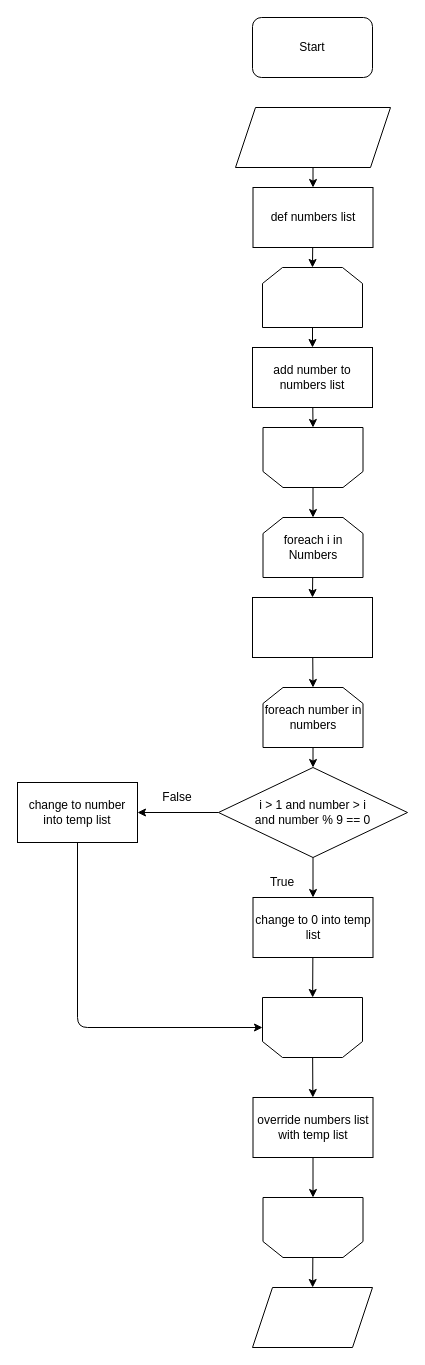
Some shapes in this 425 by 1365 pixel diagram are drawn without their labels. The shapes that lost their labels are listed below. From the top down, each one's box as (x1, y1, x2, y2) in pixels, then its label:
(234, 106, 390, 168): User input number
(262, 266, 362, 328): for range (input)
(252, 596, 372, 658): def temp list copy numbers
(252, 1286, 372, 1348): print numbers list
